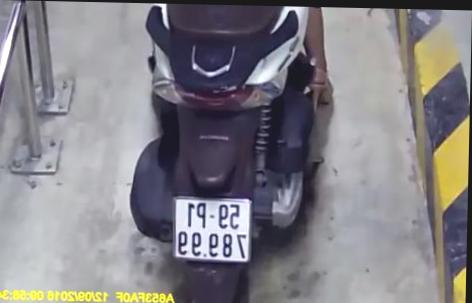License_Plate: (165, 189, 256, 267)
